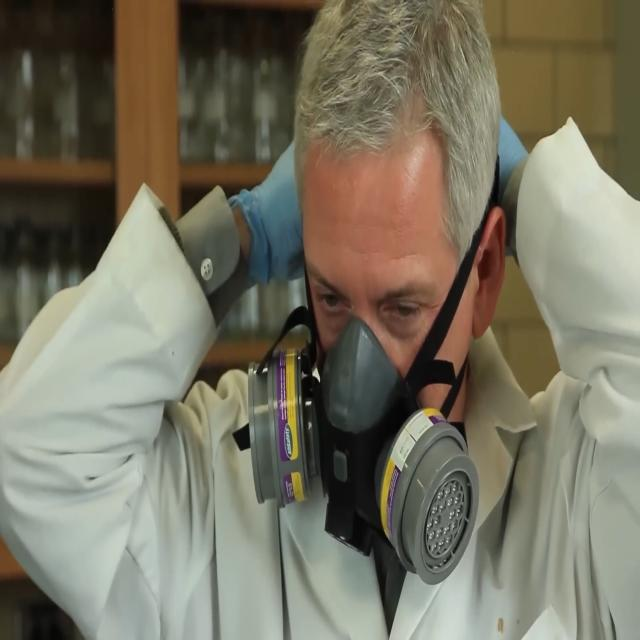labcoat: (0, 105, 640, 640)
